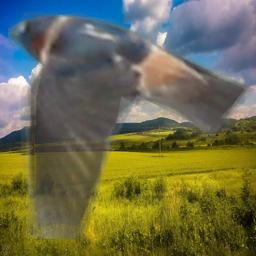Swallow: (8, 4, 255, 239)
